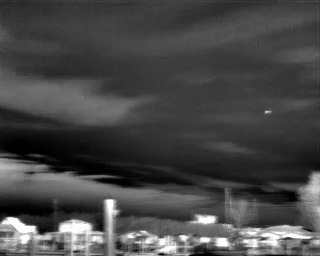BIRD: (262, 107, 273, 117)
